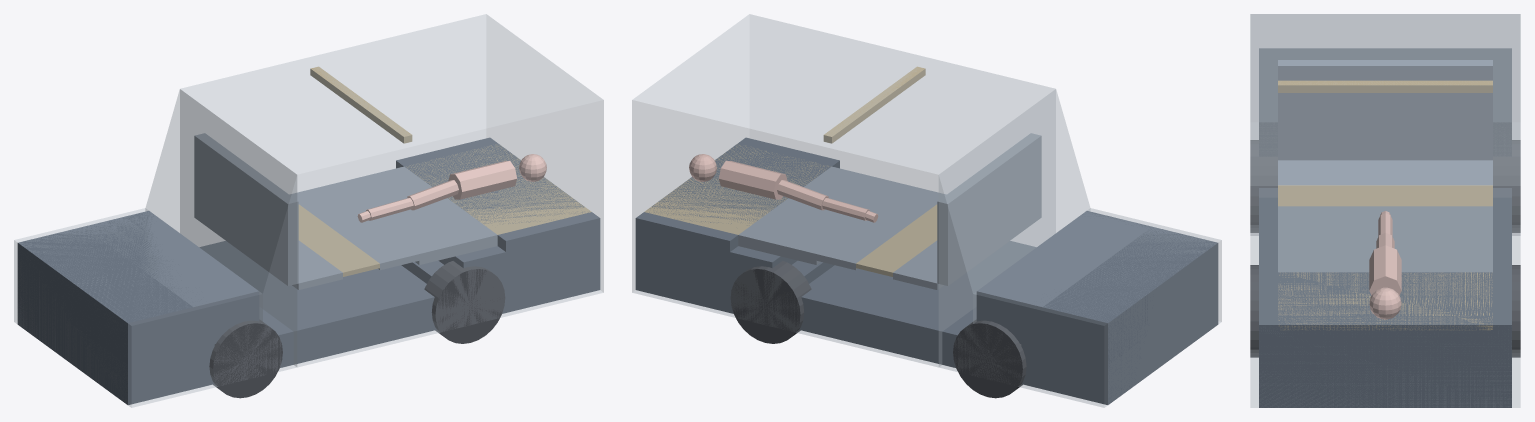
3 views of the same model, side by side, from view 1: azimuth 30°, elevation 25°; view 2: azimuth 150°, elevation 25°; view 3: azimuth 270°, elevation 25° (orthographic). The views are drawn at different scales.
Parts seen in each view (by area): view 1: mycar-v17-大床; view 2: mycar-v17-大床; view 3: mycar-v17-大床.
Part boxes in pixels (x1=…): mycar-v17-大床: x1=14, y1=14, x2=603, y2=407; mycar-v17-大床: x1=632, y1=14, x2=1221, y2=407; mycar-v17-大床: x1=1250, y1=14, x2=1520, y2=407.
Size of the model in its own units: 4.46 by 1.9 by 1.92.
